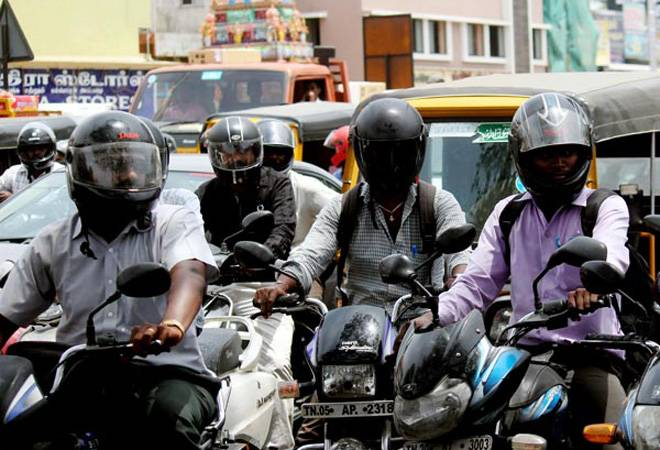helmet: (66, 108, 168, 222), (508, 92, 597, 202), (353, 94, 433, 199), (206, 113, 265, 184), (16, 124, 59, 170), (261, 123, 295, 172), (323, 128, 349, 166)
